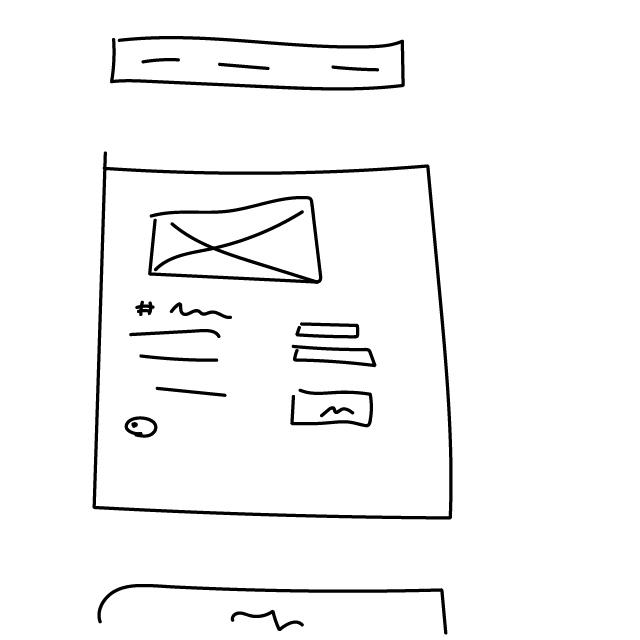button: (287, 386, 380, 430)
checkbox: (121, 414, 165, 442)
container: (80, 148, 465, 533)
footer: (84, 570, 463, 640)
frame: (146, 194, 328, 289)
heading: (131, 298, 236, 328)
input: (291, 342, 379, 371), (294, 317, 363, 342)
nav: (108, 29, 411, 97)
text: (124, 325, 239, 407)
